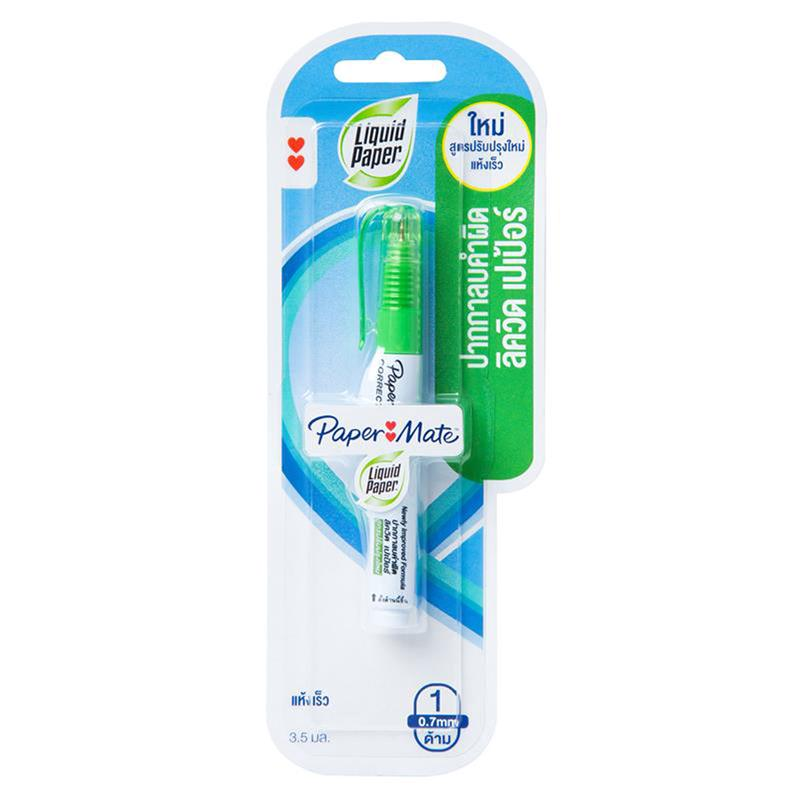Correction_fluid: (340, 199, 438, 646)
